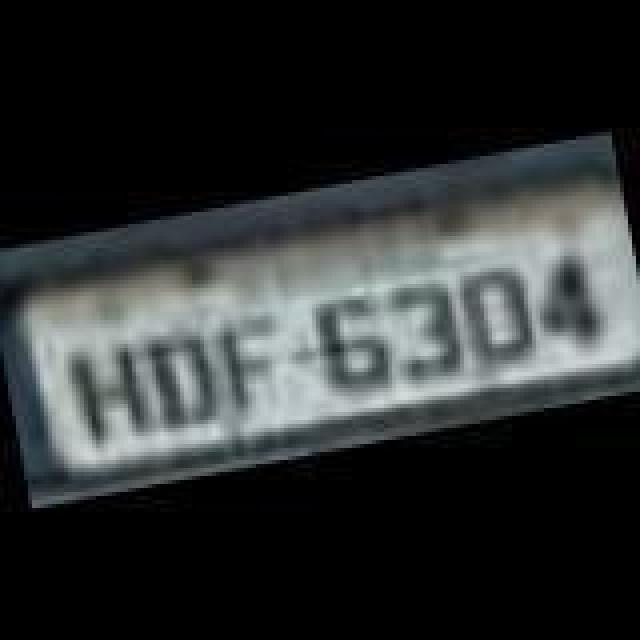3: (378, 272, 470, 384)
4: (522, 242, 614, 358)
6: (306, 288, 398, 392)
D: (146, 322, 222, 430)
F: (208, 308, 288, 412)
H: (56, 336, 152, 448)
O: (450, 262, 542, 370)
